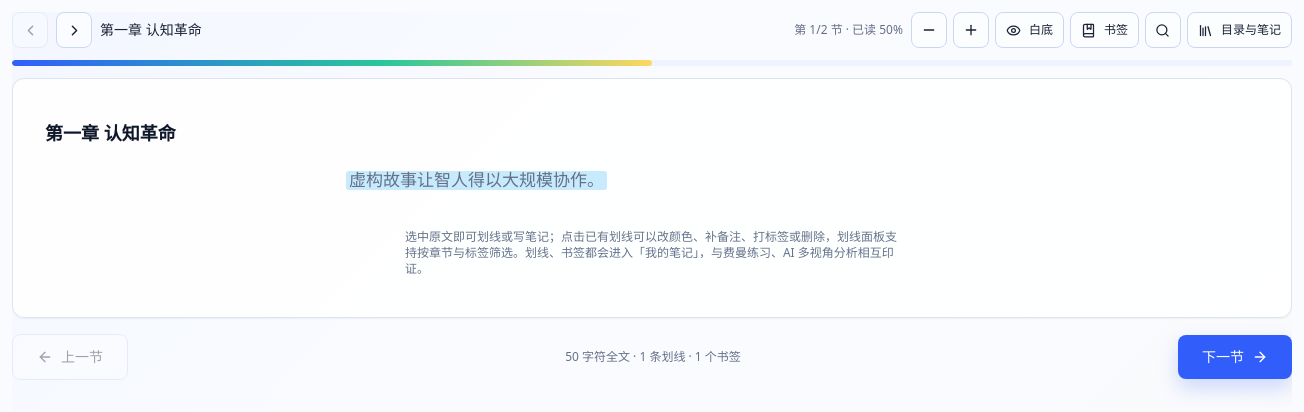
Scenario: BookReader reading surface › moves to the next section with the toolbar button
Click the button named "下一节": x=74, y=30 [56,12,92,48]
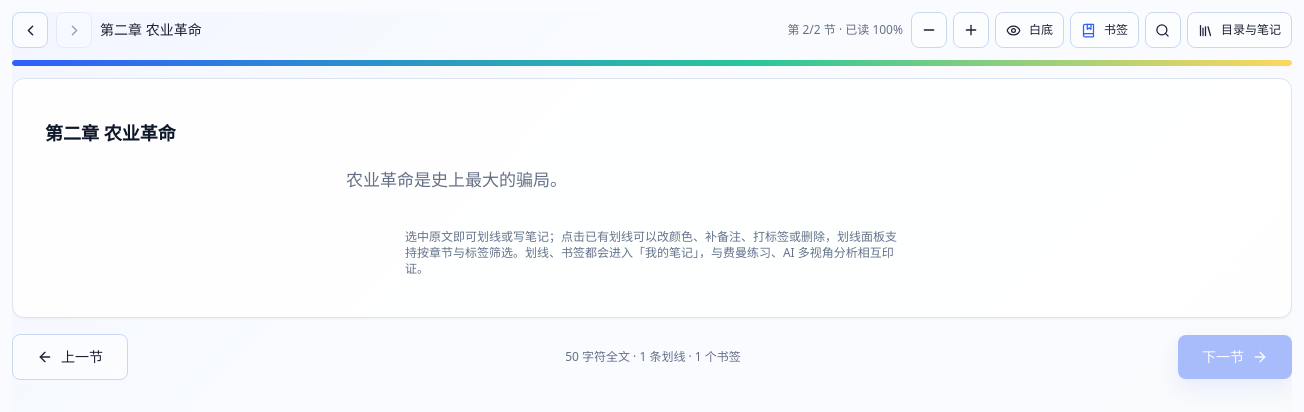
Check: the heading "第二章 农业革命" is shown, box [45,121,176,145]
Check: the text "第 2/2 节 · 已读 100%" is shown, box [787,22,903,38]
